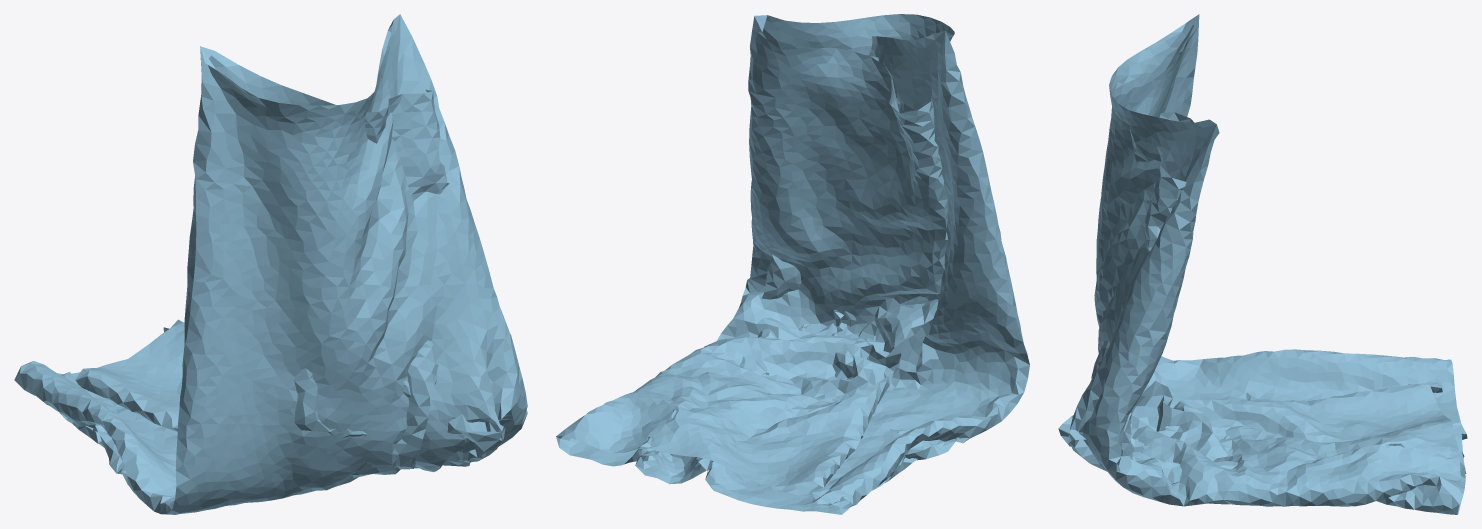
The model's file is frame_12.glb.
The picture shows the model from 3 angles, left to right: view 1: azimuth 30°, elevation 25°; view 2: azimuth 150°, elevation 25°; view 3: azimuth 270°, elevation 25°; orthographic projection. The views are drawn at different scales.
Parts seen in each view (by area): view 1: frame_12.obj; view 2: frame_12.obj; view 3: frame_12.obj.
Boxes of the visible parts, box(x1,y1,x2,y2) form: frame_12.obj: box(14, 14, 527, 514); frame_12.obj: box(556, 14, 1029, 514); frame_12.obj: box(1058, 14, 1467, 514).
Size of the model in its own units: 0.8919 by 1.08 by 1.03.
